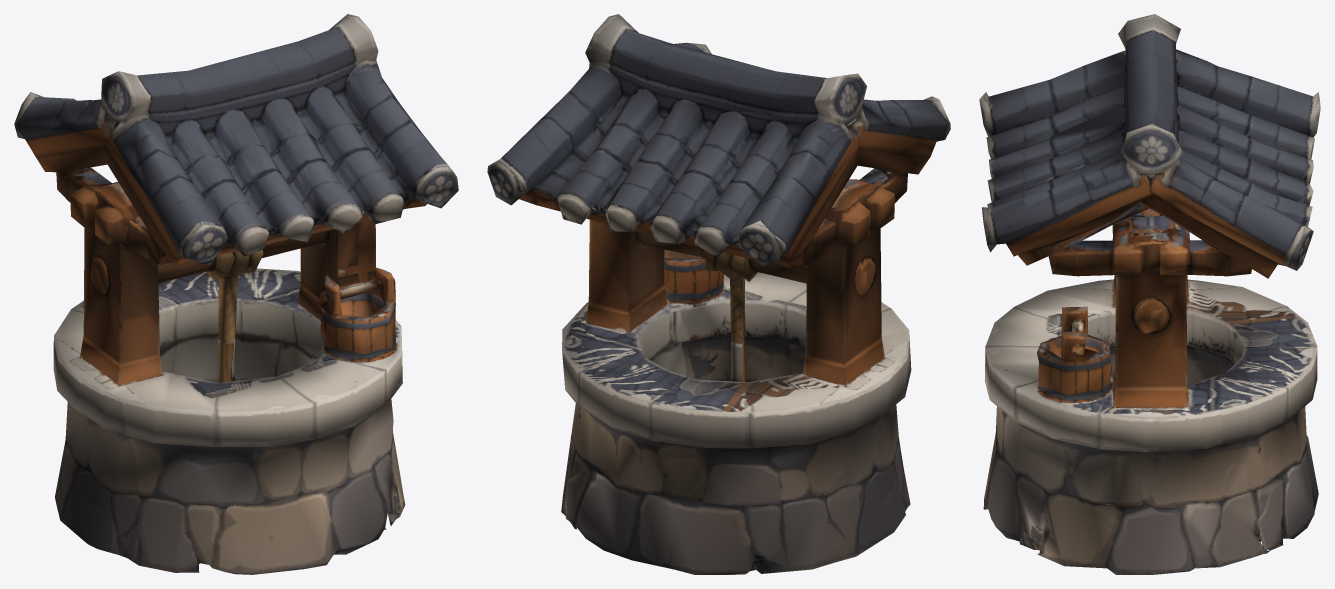
The model's file is well.glb.
3 views of the same model, side by side, from view 1: azimuth 30°, elevation 25°; view 2: azimuth 150°, elevation 25°; view 3: azimuth 270°, elevation 25° (orthographic). The views are drawn at different scales.
Parts seen in each view (by area): view 1: low; view 2: low; view 3: low.
Part boxes in pixels (left/top/right/bottom): low: left=14, top=14, right=458, bottom=574; low: left=487, top=14, right=950, bottom=574; low: left=979, top=14, right=1320, bottom=574.
Size of the model in its own units: 0.7525 by 1.01 by 0.707.
Materials: 1 (1 with a texture image).
